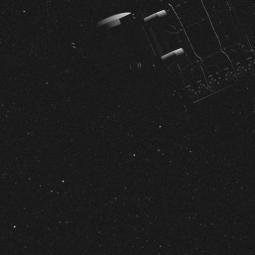proba_3_csc: (88, 0, 248, 120)
